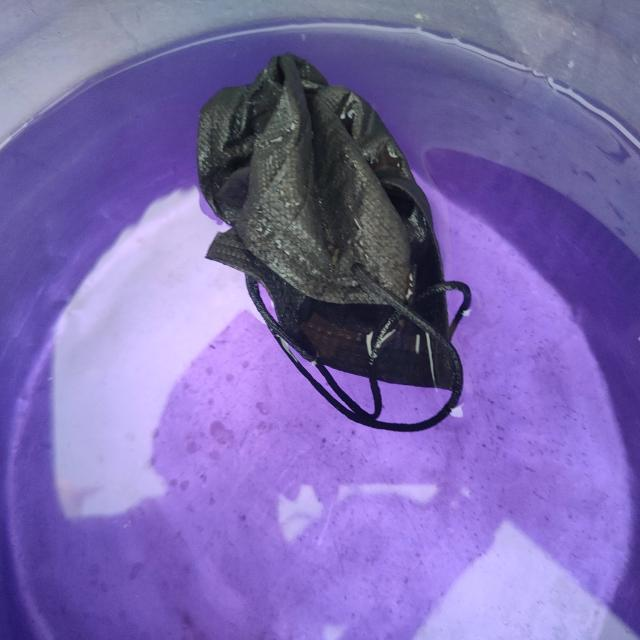litter: (164, 38, 484, 425)
